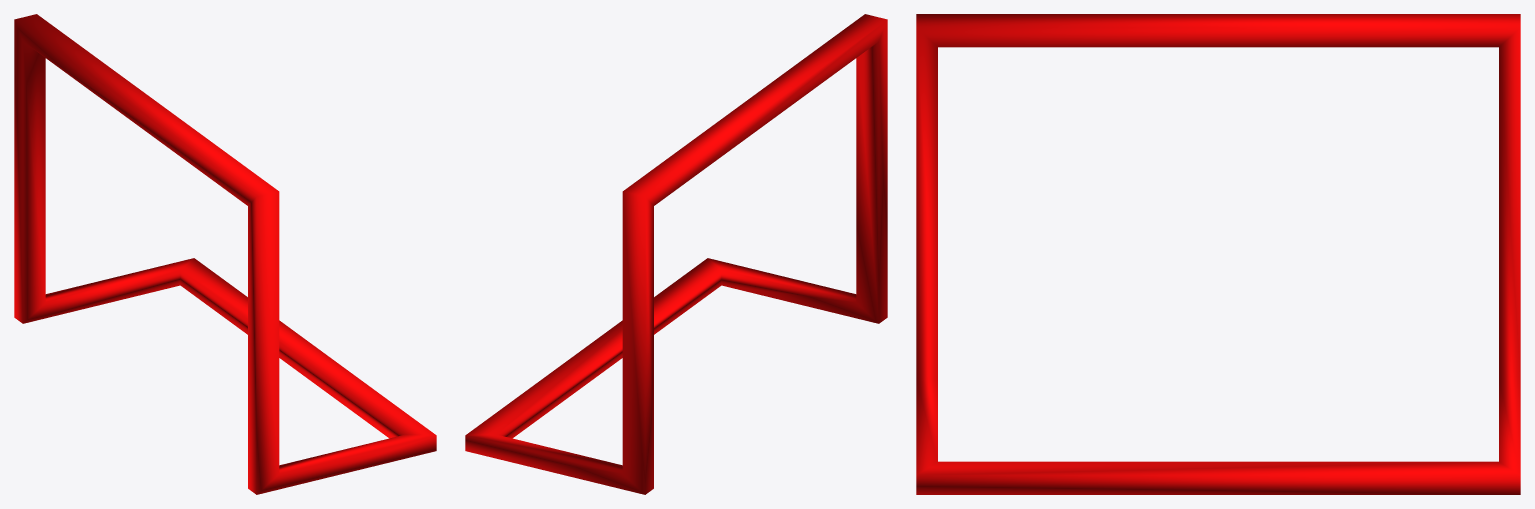
File: Goalsopponent.004.dae
The picture shows the model from 3 angles, left to right: view 1: azimuth 30°, elevation 25°; view 2: azimuth 150°, elevation 25°; view 3: azimuth 270°, elevation 25°; orthographic projection. The views are drawn at different scales.
Parts seen in each view (by area): view 1: collision_0_field_1_3; view 2: collision_0_field_1_3; view 3: collision_0_field_1_3.
Boxes of the visible parts, <box> form: collision_0_field_1_3: <box>14,14,436,494</box>; collision_0_field_1_3: <box>465,14,887,494</box>; collision_0_field_1_3: <box>916,14,1520,494</box>.
Bounding box in the file's own units: 1.59 × 3.71 × 2.52.
